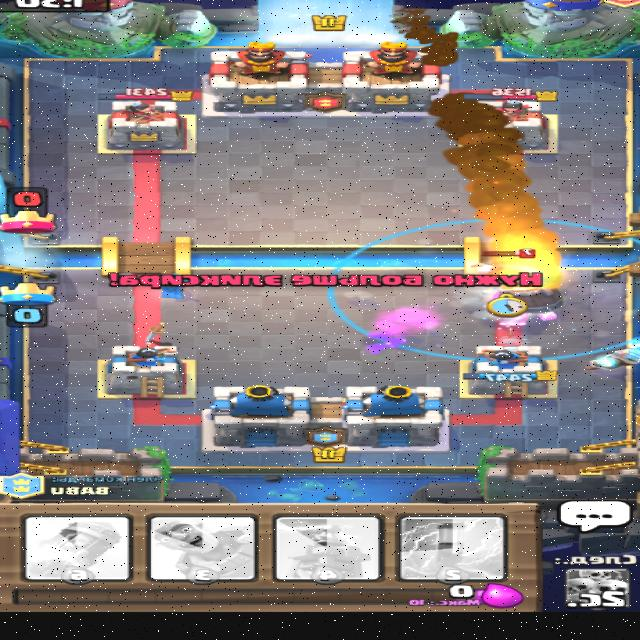Enemy-HogRider: (493, 290, 561, 326)
Enemy-Rocket: (500, 278, 567, 313)
Enemy-Witch: (470, 247, 544, 274)
Player-IceWizard: (586, 336, 640, 371)
Player-Tornado: (328, 217, 640, 362)
